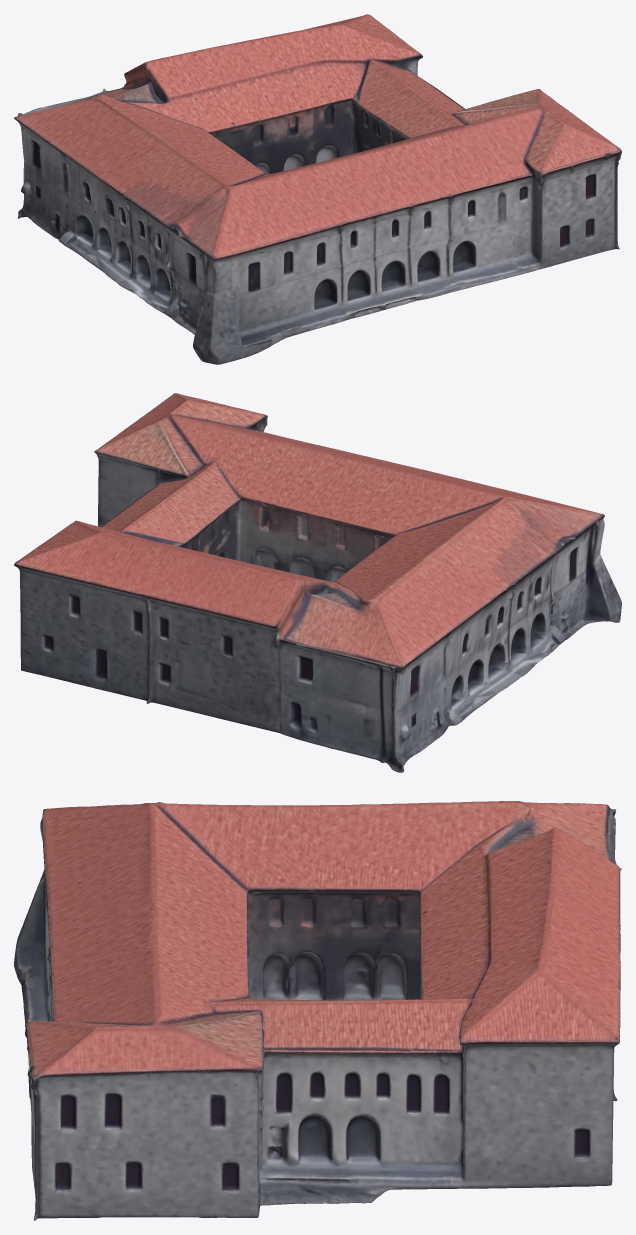
The model's file is Meshy_AI_Terracotta_Courtyard__0921092156_texture.fbx.
The picture shows the model from 3 angles, top to bottom: view 1: azimuth 30°, elevation 25°; view 2: azimuth 150°, elevation 25°; view 3: azimuth 270°, elevation 25°; orthographic projection. The views are drawn at different scales.
Parts seen in each view (by area): view 1: Mesh_0; view 2: Mesh_0; view 3: Mesh_0.
Boxes of the visible parts, box(x1,y1,x2,y2) form: Mesh_0: box(14, 14, 621, 364); Mesh_0: box(14, 393, 621, 772); Mesh_0: box(14, 801, 621, 1220).
Bounding box in the file's own units: 190 × 60.73 × 164.
Materials: 1 (1 with a texture image).
